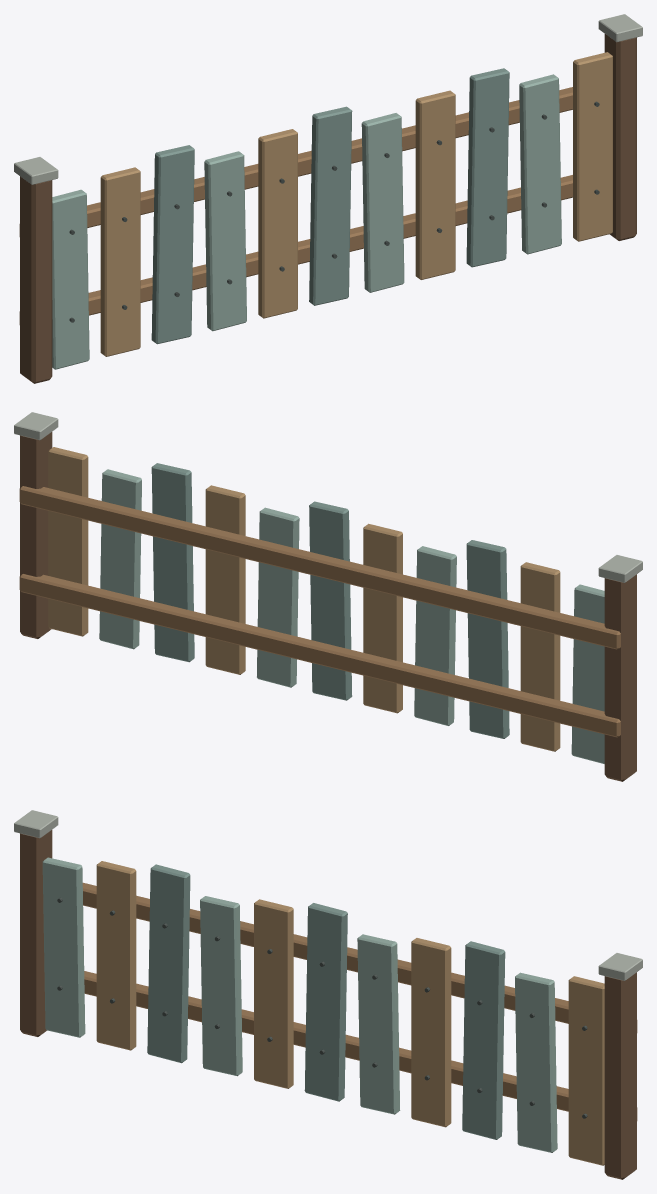
Rendered from reclaimed_fence.glb.
The picture shows the model from 3 angles, top to bottom: view 1: azimuth 30°, elevation 25°; view 2: azimuth 150°, elevation 25°; view 3: azimuth 330°, elevation 25°; orthographic projection.
Parts seen in each view (by area): view 1: Body_reclaimed_fence; view 2: Body_reclaimed_fence; view 3: Body_reclaimed_fence.
Part boxes in pixels (x1=…): Body_reclaimed_fence: x1=14, y1=14, x2=642, y2=383; Body_reclaimed_fence: x1=14, y1=412, x2=642, y2=781; Body_reclaimed_fence: x1=14, y1=810, x2=642, y2=1179.
Size of the model in its own units: 4.08 by 1.35 by 0.22.
